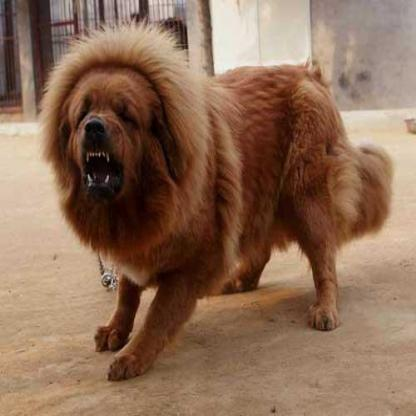Tibetan_mastiff: (33, 18, 393, 386)
